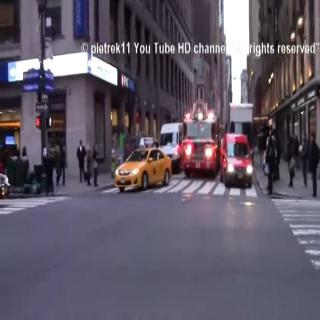Fire_truck: (180, 100, 220, 178)
